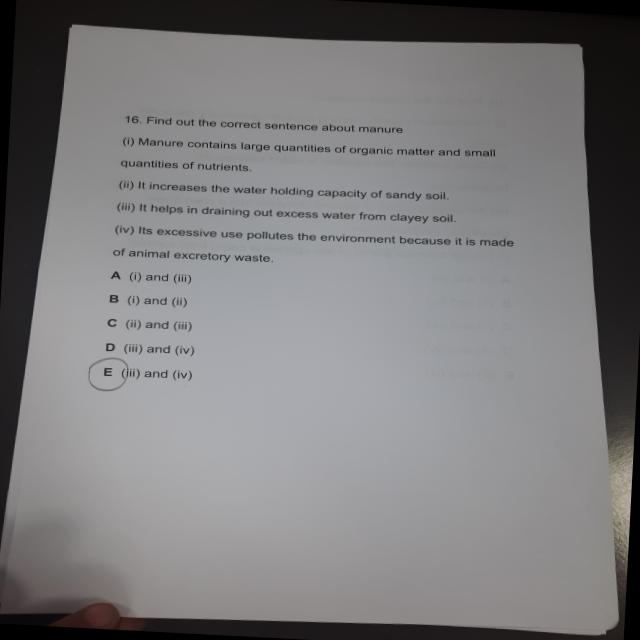E: (80, 354, 132, 396)
